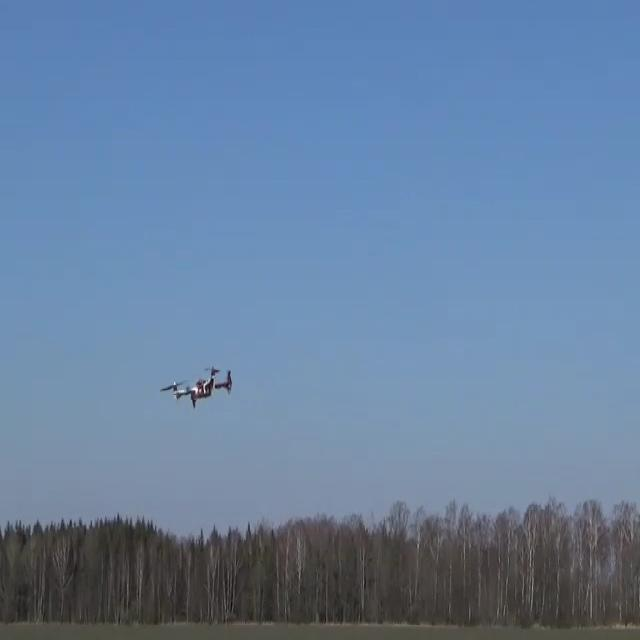drone: (159, 363, 232, 408)
